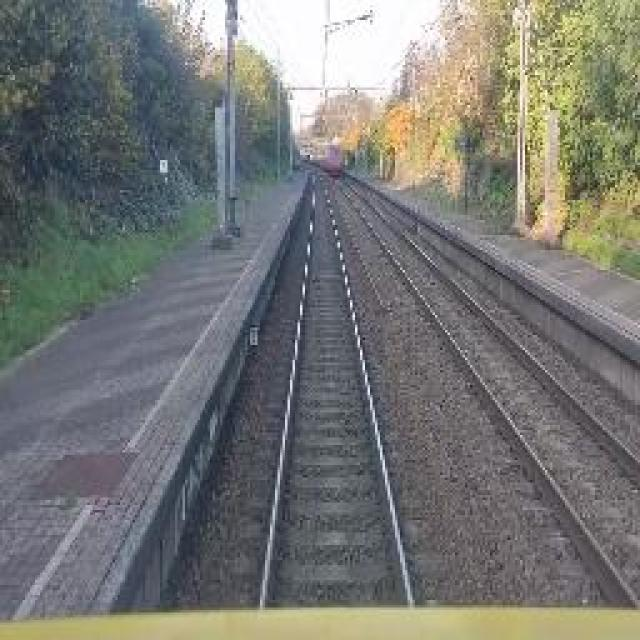rail: (226, 173, 441, 614)
